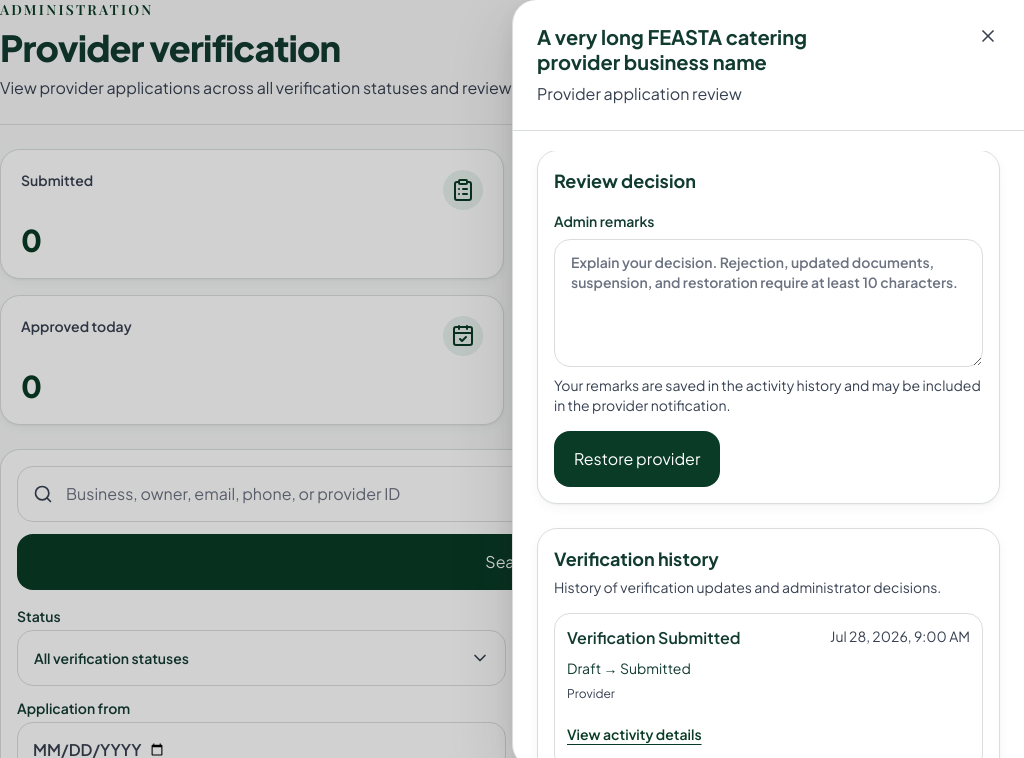
Test case: provider restoration › offers restore only for suspended providers and requires a reason
(page scrolled)
Click the button "Restore provider" at (637, 459), box [554,431,720,487]
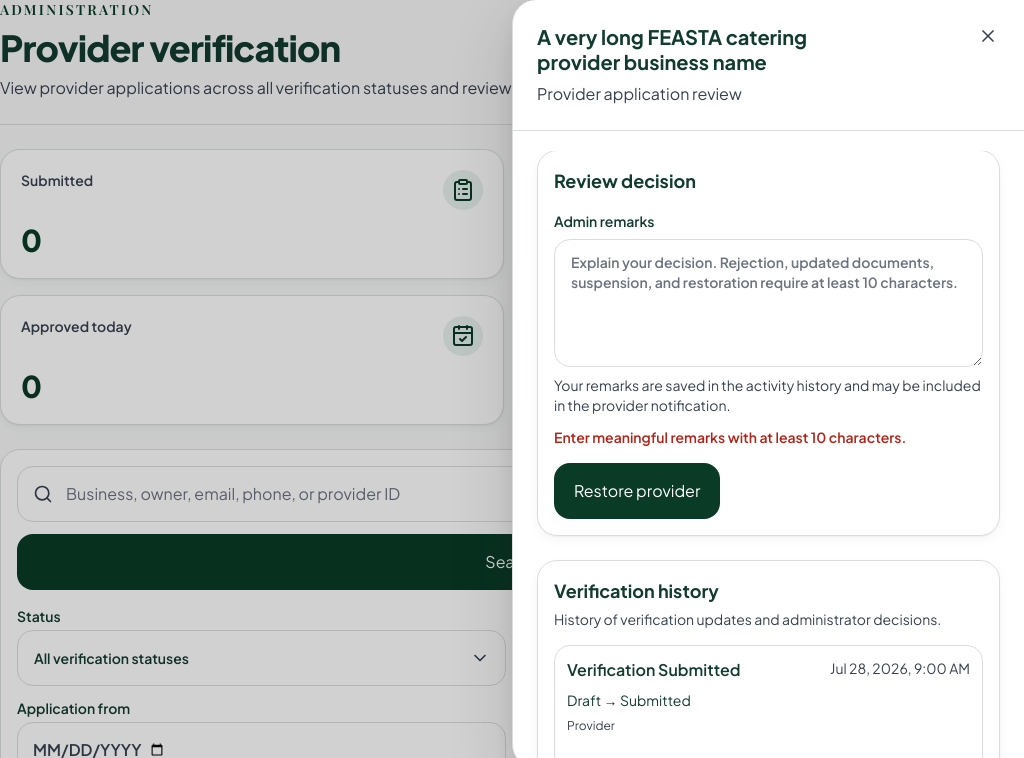
Now the message shows "at least 10 characters", box [554,428,906,446]
